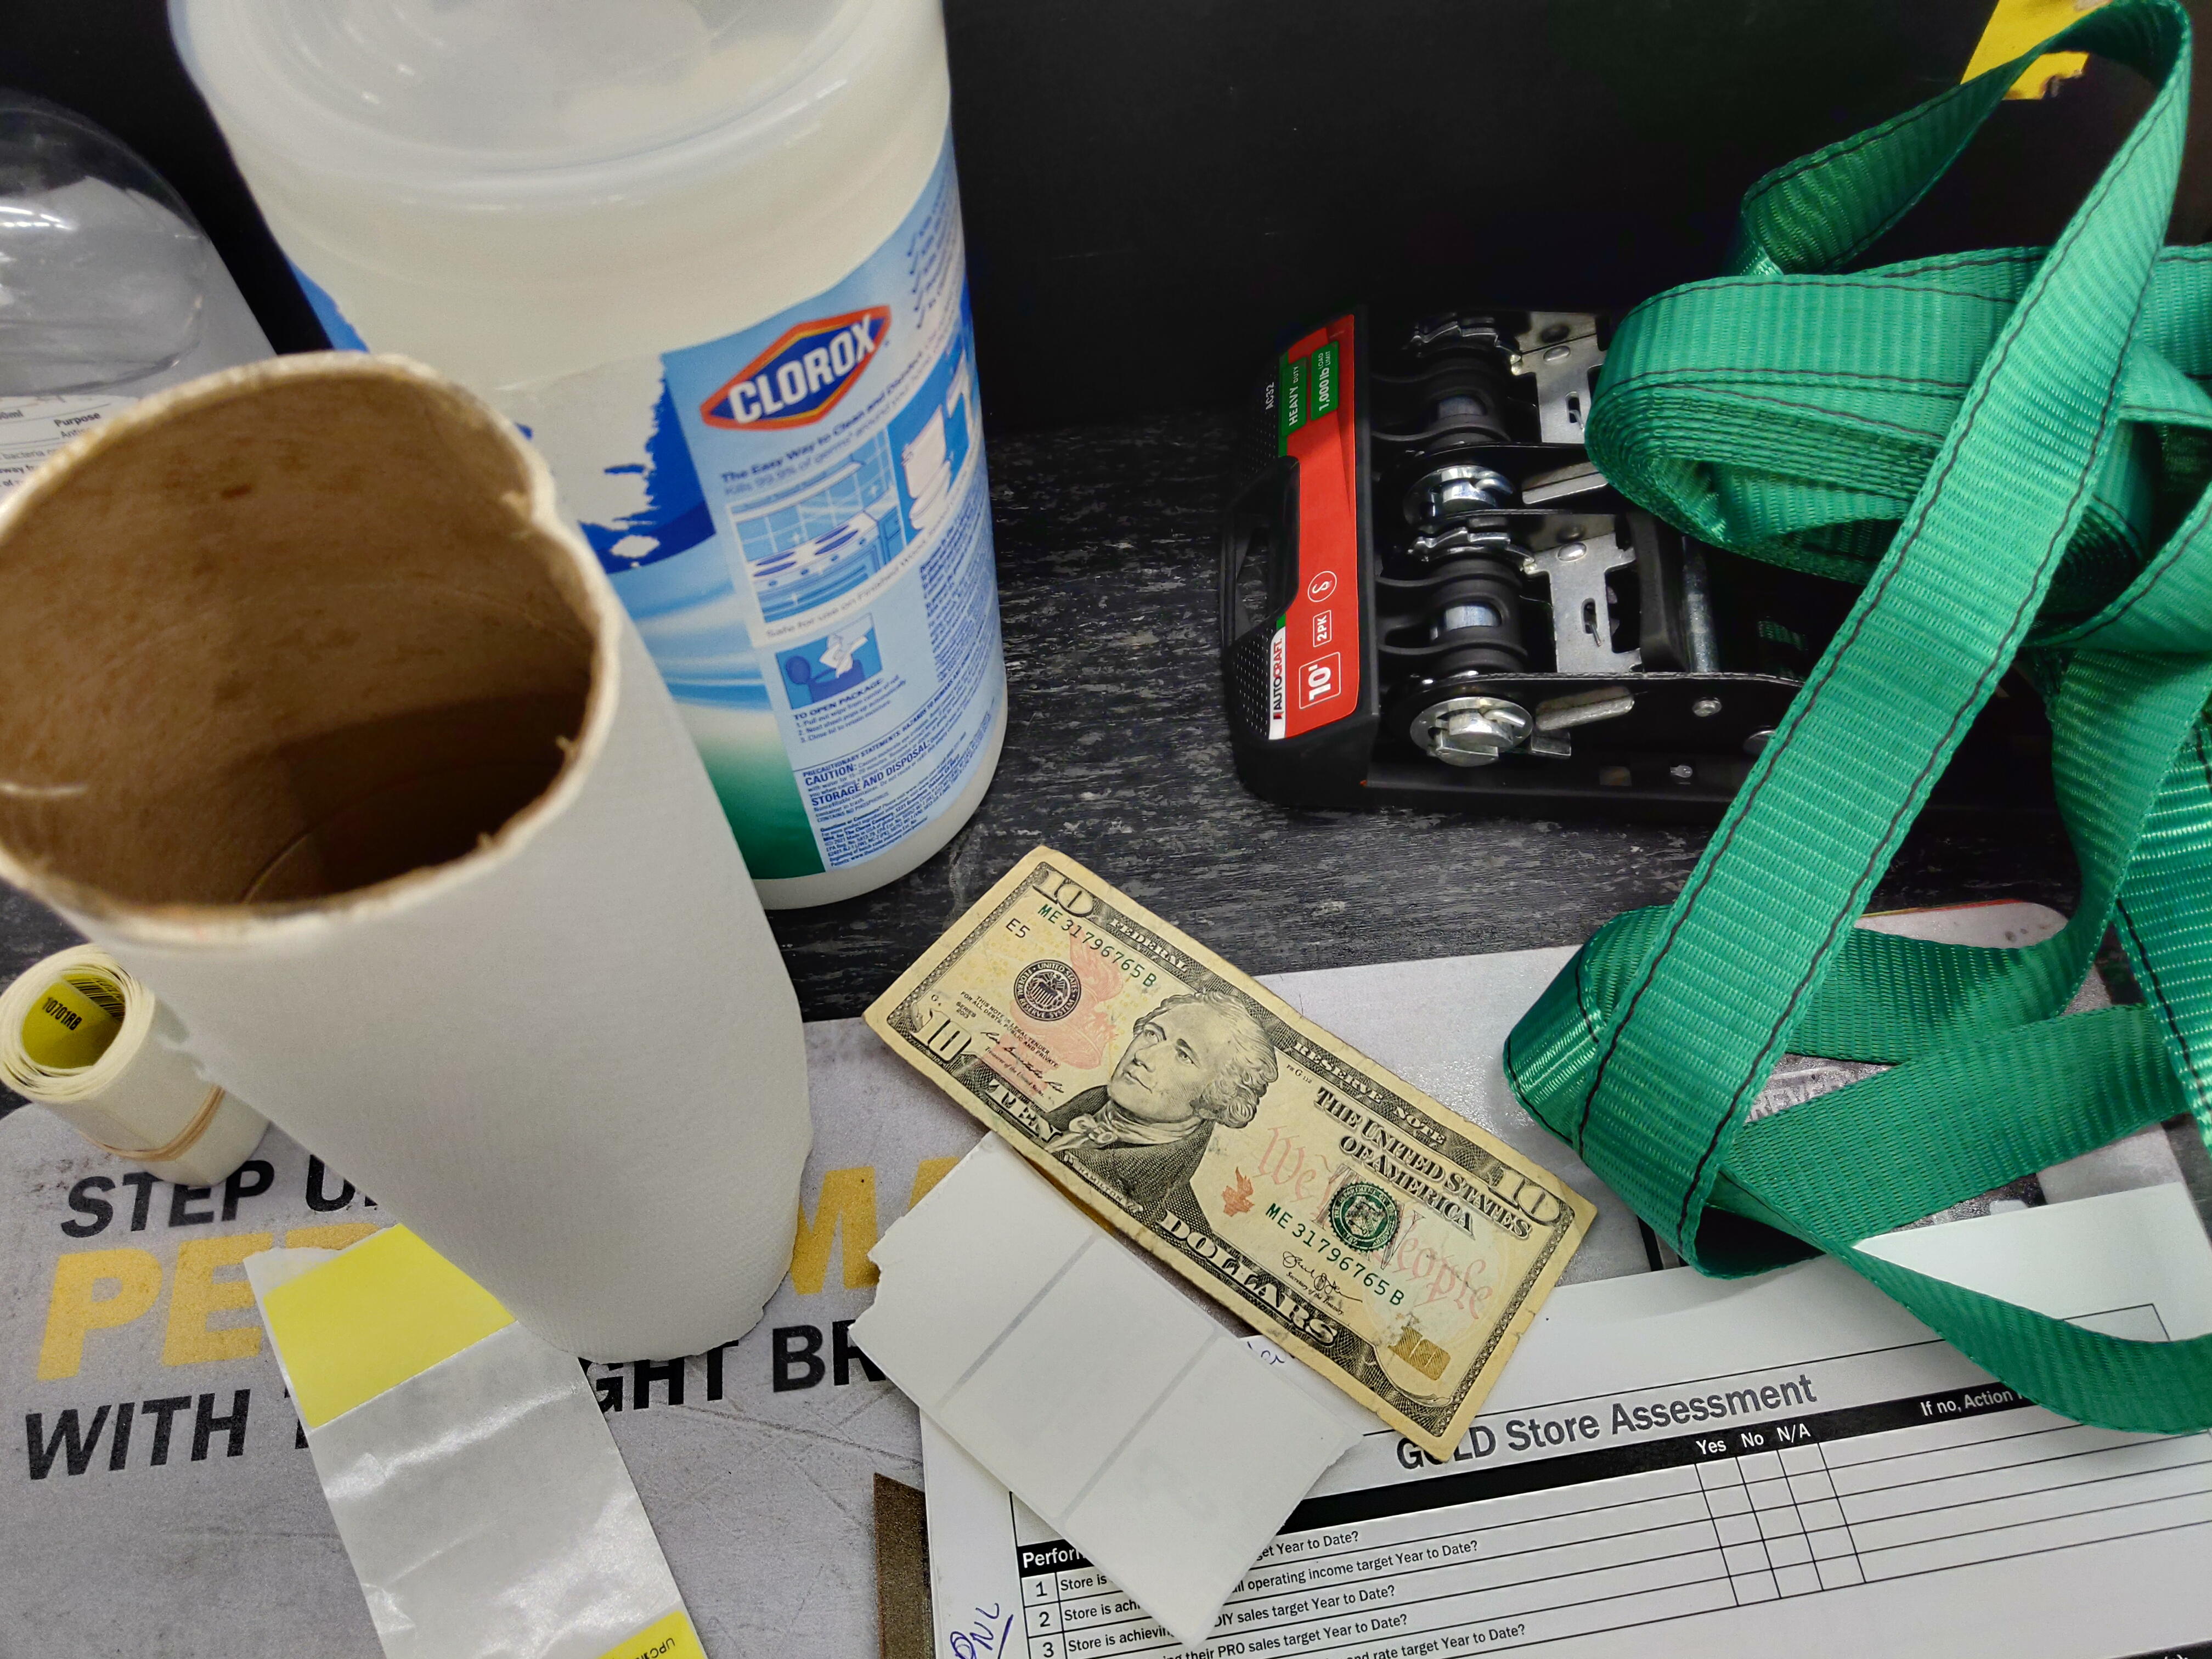TenBill: (860, 840, 1601, 1464)
